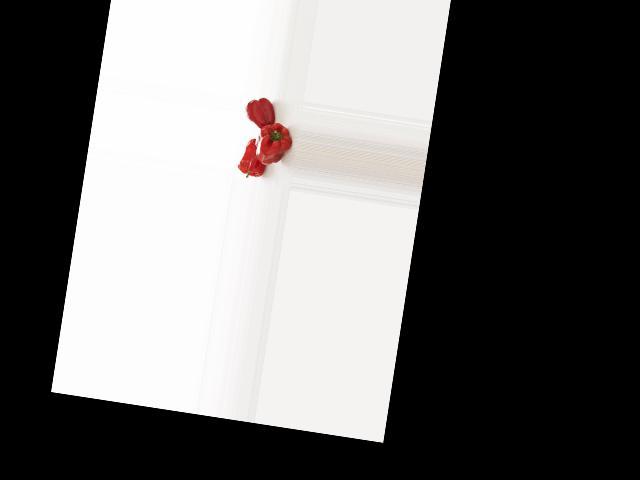bell_pepper: (243, 93, 279, 128)
